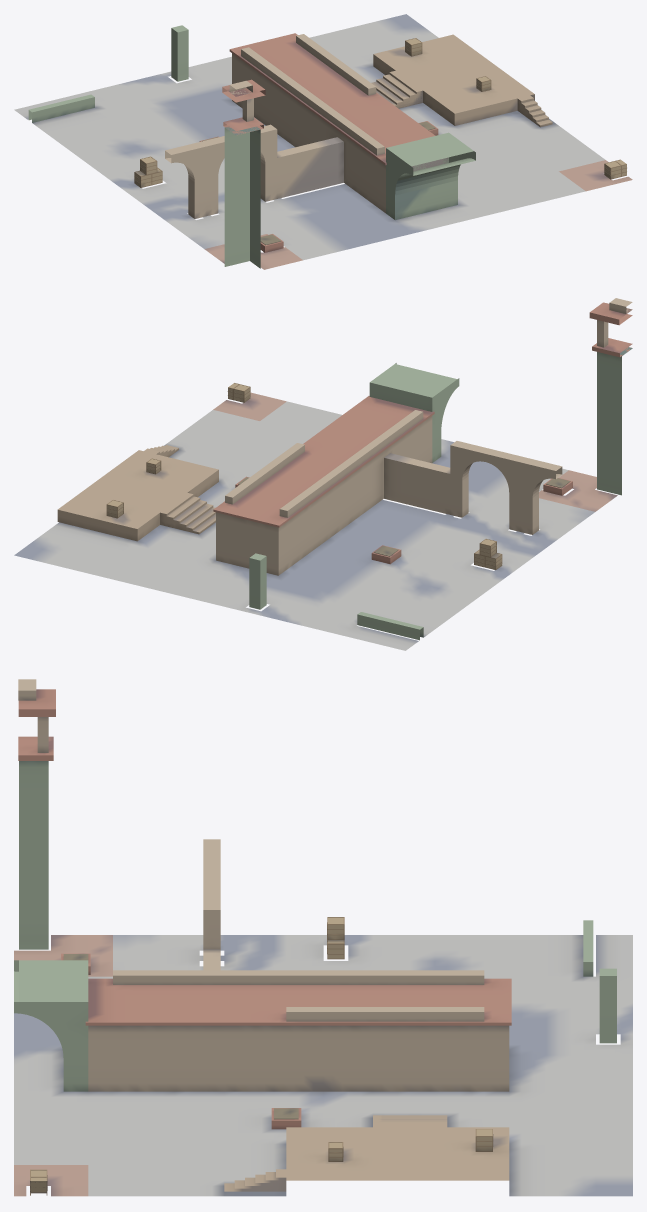
3 views of the same model, one above another, from view 1: azimuth 30°, elevation 25°; view 2: azimuth 150°, elevation 25°; view 3: azimuth 270°, elevation 25° (orthographic). The views are drawn at different scales.
Parts seen in each view (by area): view 1: t; view 2: t; view 3: t.
Boxes of the visible parts, <box> form: t: <box>14,14,632,269</box>; t: <box>14,298,632,650</box>; t: <box>14,679,632,1196</box>.
Bounding box in the file's own units: 50.61 × 22.6 × 50.
